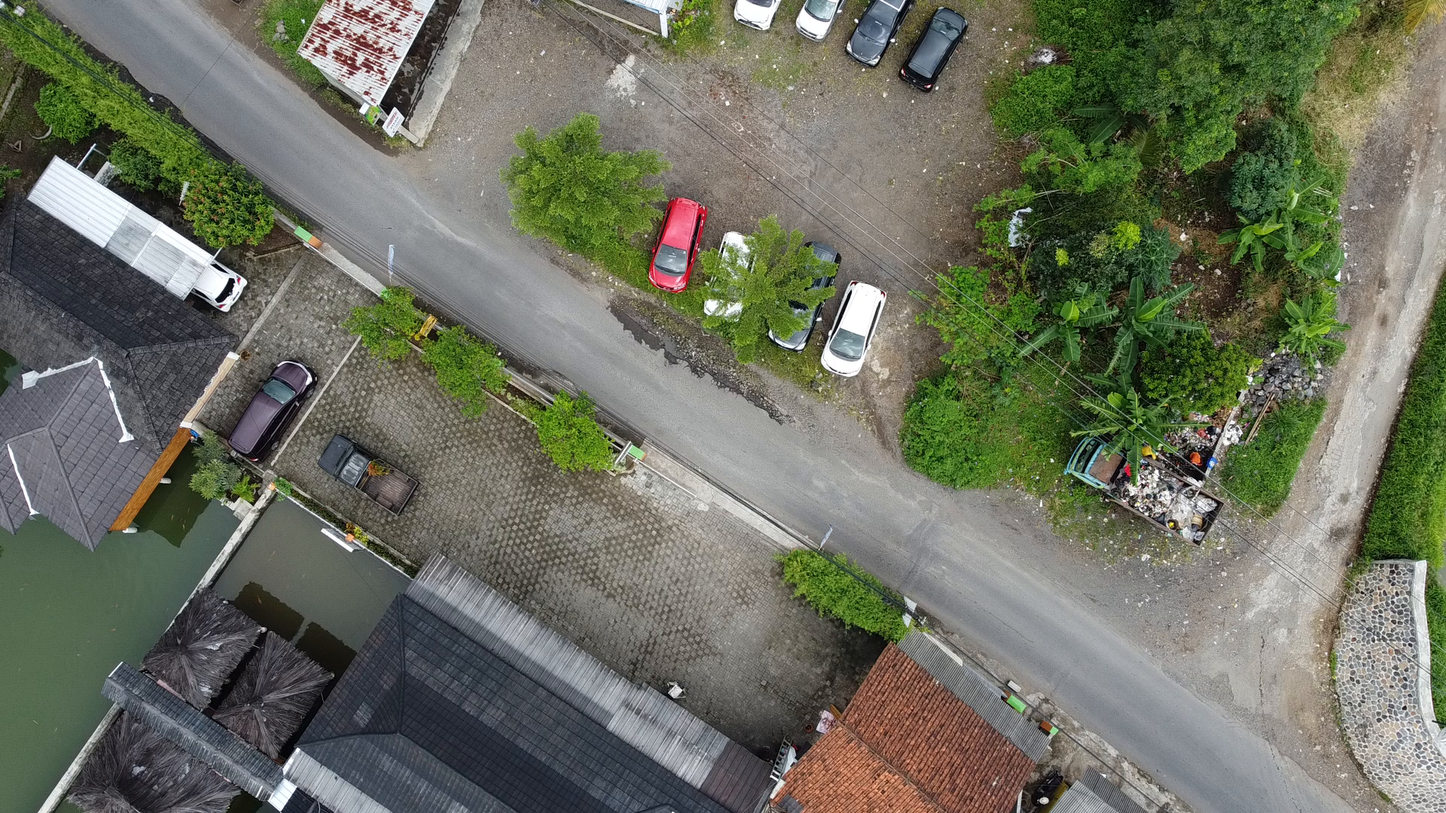mobil: (313, 425, 424, 527), (765, 230, 847, 353), (227, 358, 317, 464), (816, 276, 892, 388), (900, 1, 976, 95), (707, 226, 763, 345), (652, 191, 710, 294), (844, 1, 912, 79), (191, 251, 251, 308)
